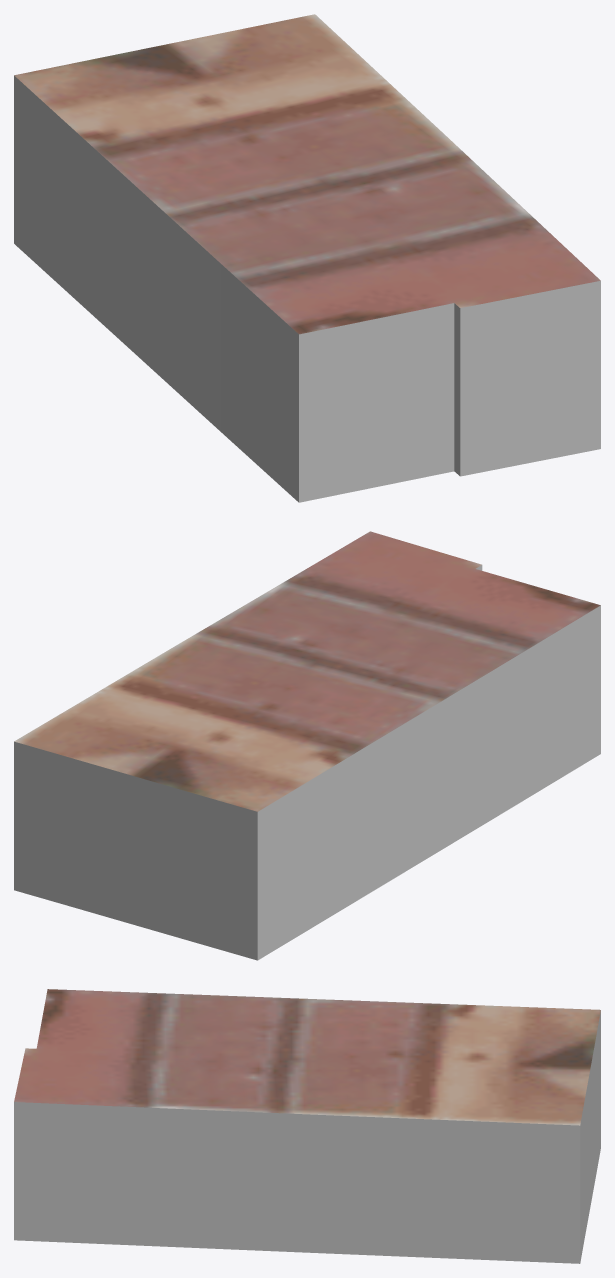
The model's file is DEBW_0010007Tx7i.gltf.
The picture shows the model from 3 angles, top to bottom: view 1: azimuth 30°, elevation 25°; view 2: azimuth 150°, elevation 25°; view 3: azimuth 270°, elevation 25°; orthographic projection. The views are drawn at different scales.
Parts seen in each view (by area): view 1: Z_UP; view 2: Z_UP; view 3: Z_UP.
Boxes of the visible parts, x1,y1,x2,y2 form: Z_UP: [14, 14, 600, 502]; Z_UP: [14, 531, 600, 960]; Z_UP: [14, 989, 600, 1263].
Bounding box in the file's own units: 11.83 × 5.59 × 21.51.
2 materials, 1 textured.
